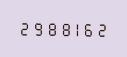eight: (56, 19, 68, 37), (43, 19, 55, 36)
nine: (30, 19, 42, 36)
one: (69, 20, 81, 37)
six: (82, 20, 94, 37)
two: (17, 19, 29, 36), (95, 20, 107, 37)
